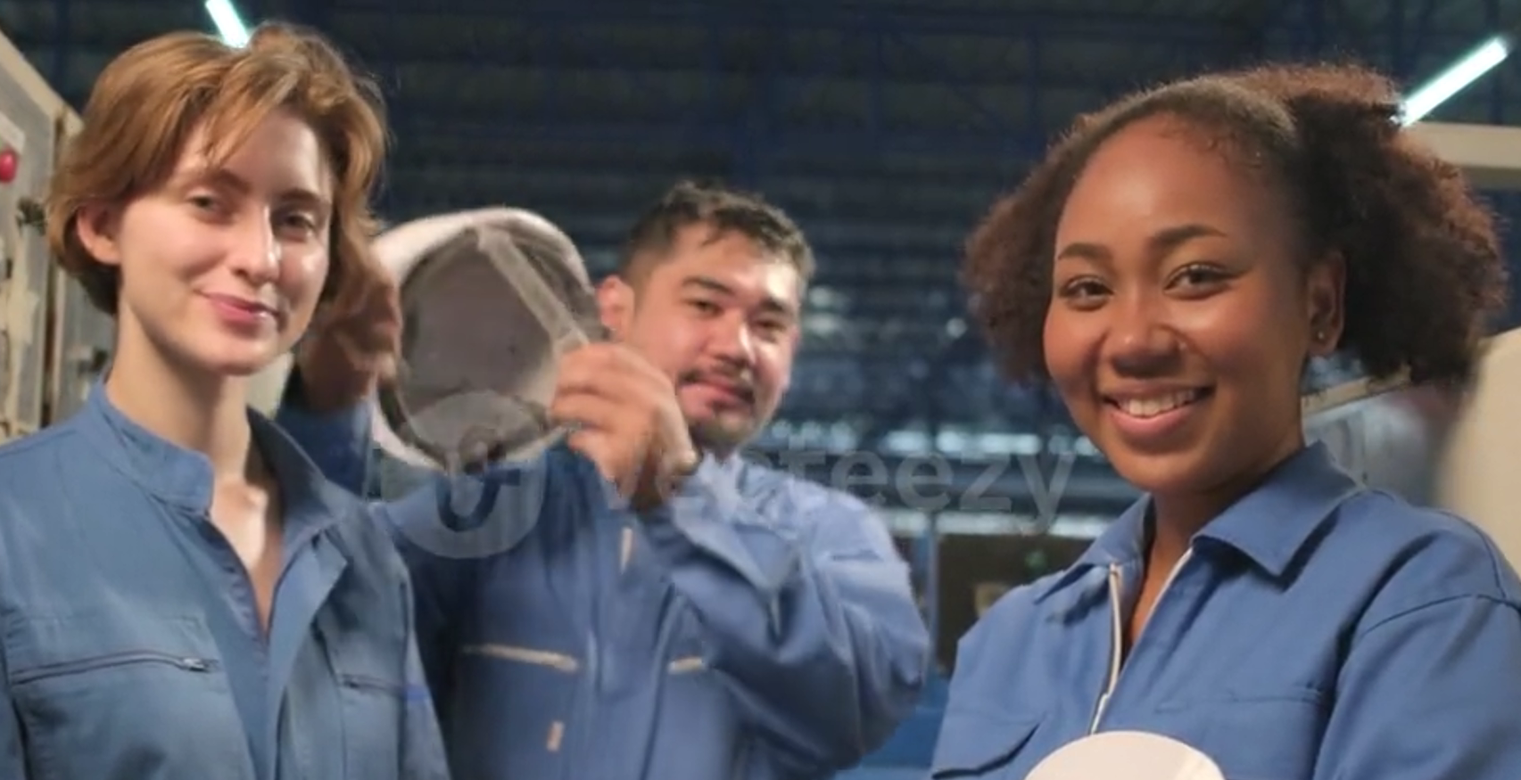safety_helmet: (361, 204, 611, 477)
